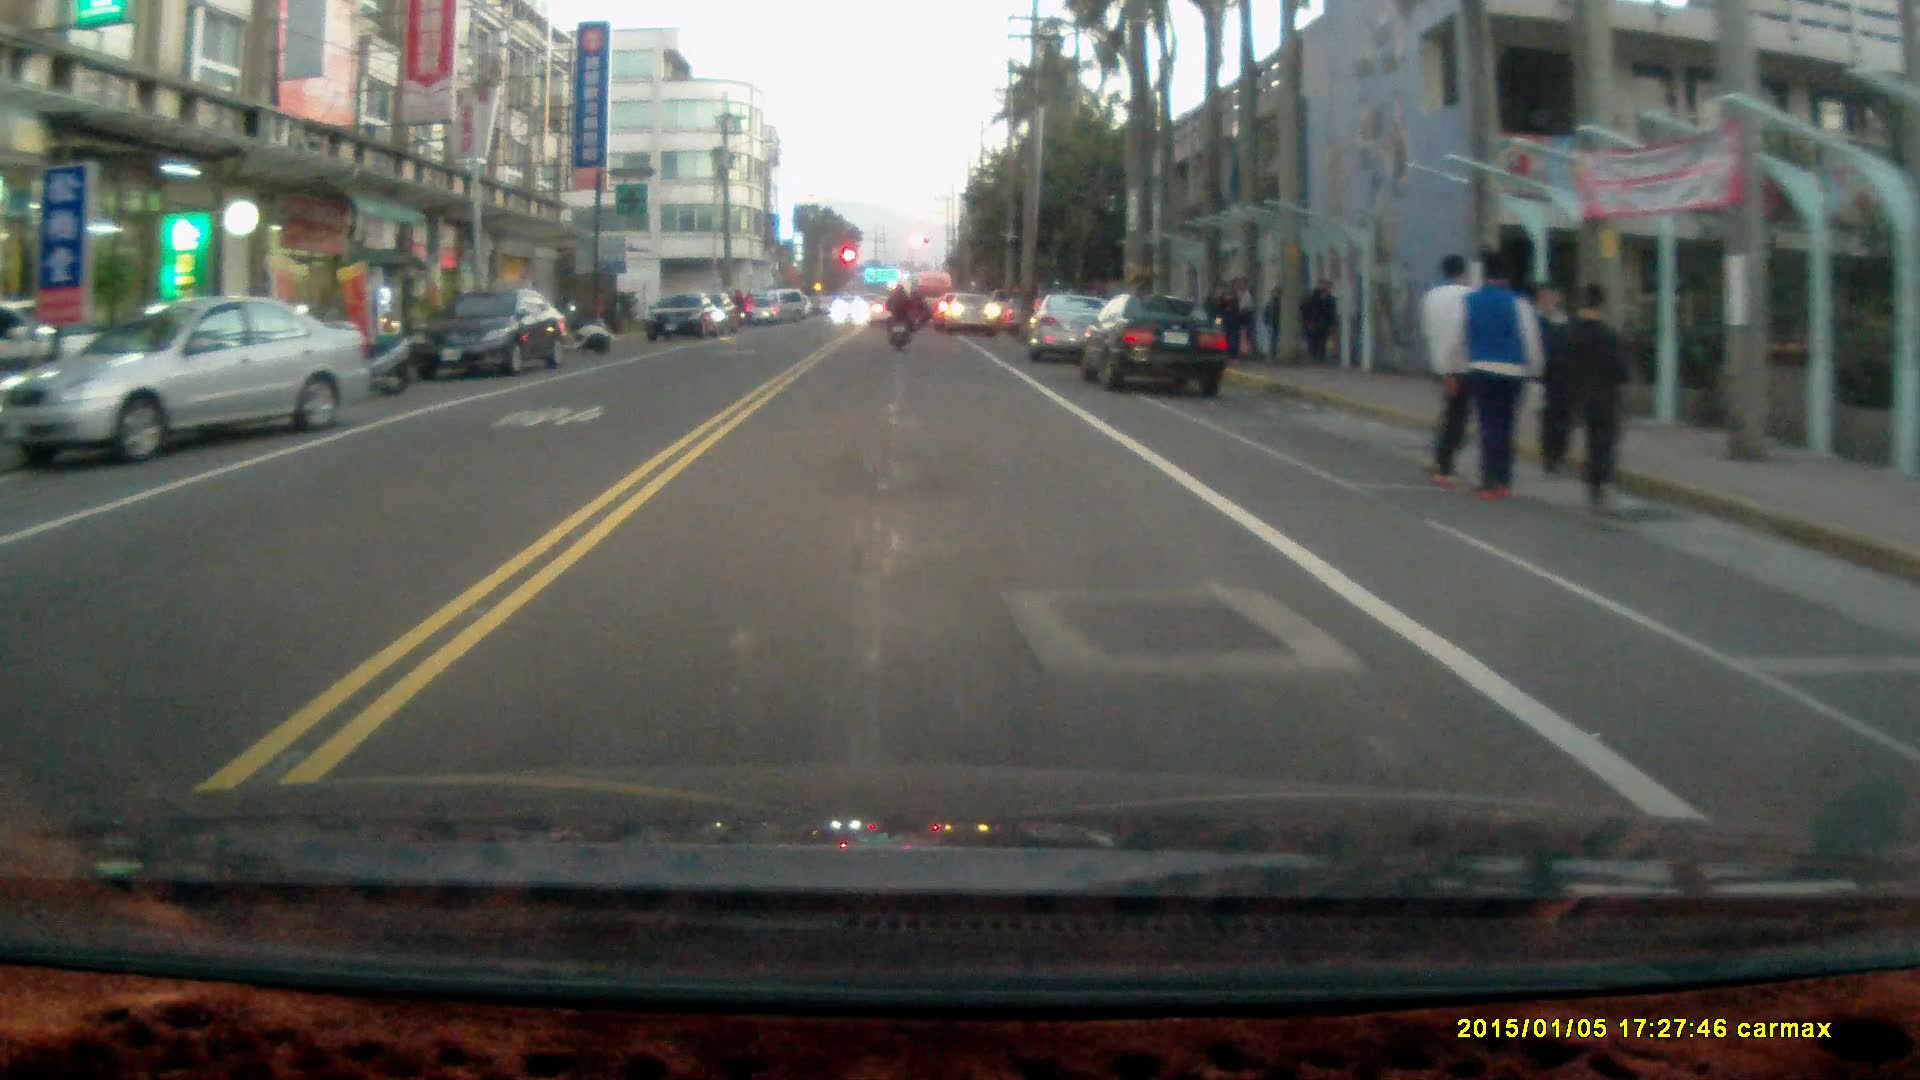pedestrian: (1448, 246, 1549, 506), (1561, 278, 1634, 523), (1417, 250, 1484, 492), (1528, 280, 1576, 482), (1301, 276, 1339, 371), (1209, 281, 1244, 365), (1224, 272, 1254, 363)
rider: (882, 279, 913, 351)
vehicle: (7, 301, 358, 466), (1082, 296, 1236, 402), (419, 286, 569, 379), (1029, 293, 1115, 367), (645, 288, 728, 343), (947, 292, 1001, 337)
